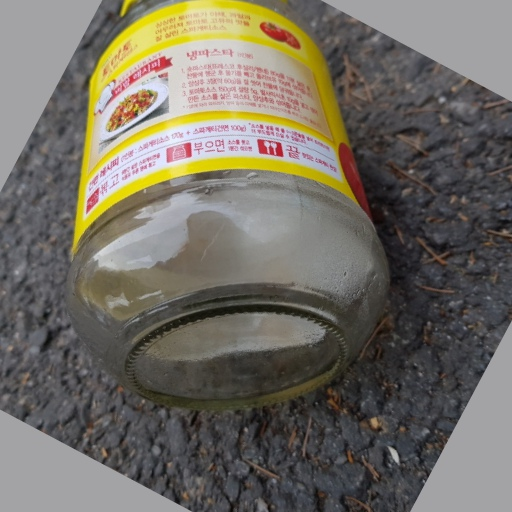Glass_5: (77, 1, 388, 404)
